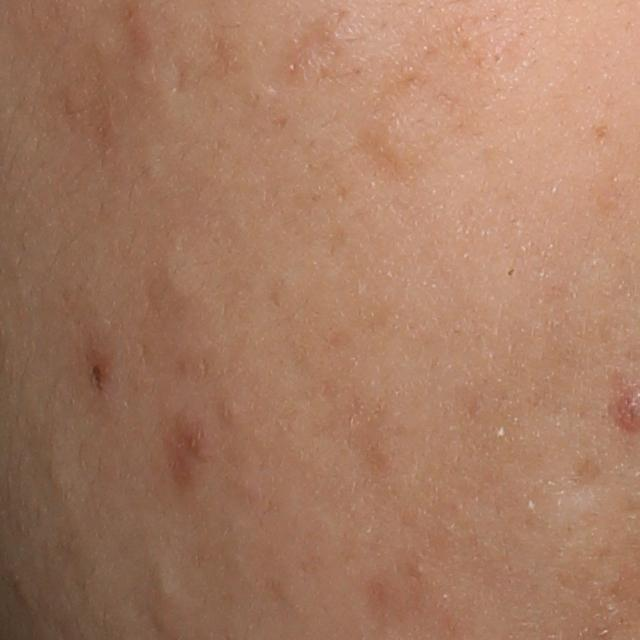atrophic_scar: (351, 116, 419, 188), (290, 15, 339, 76), (170, 58, 193, 100)
comedo: (148, 558, 187, 606)
